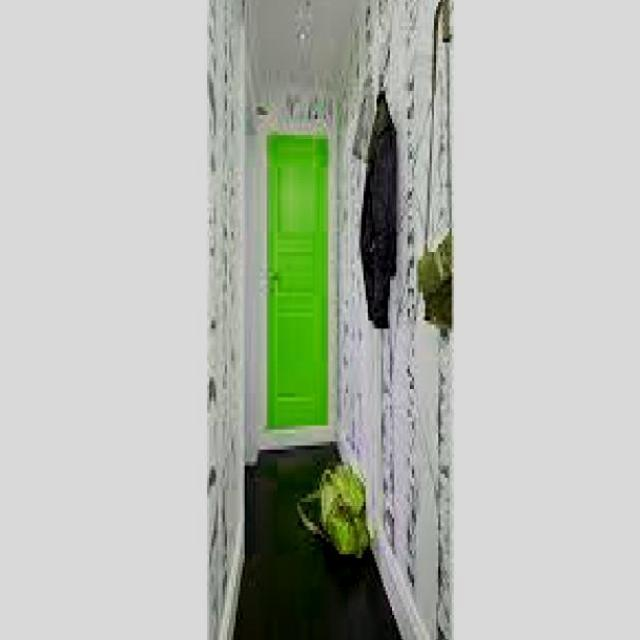door: (255, 104, 347, 472)
